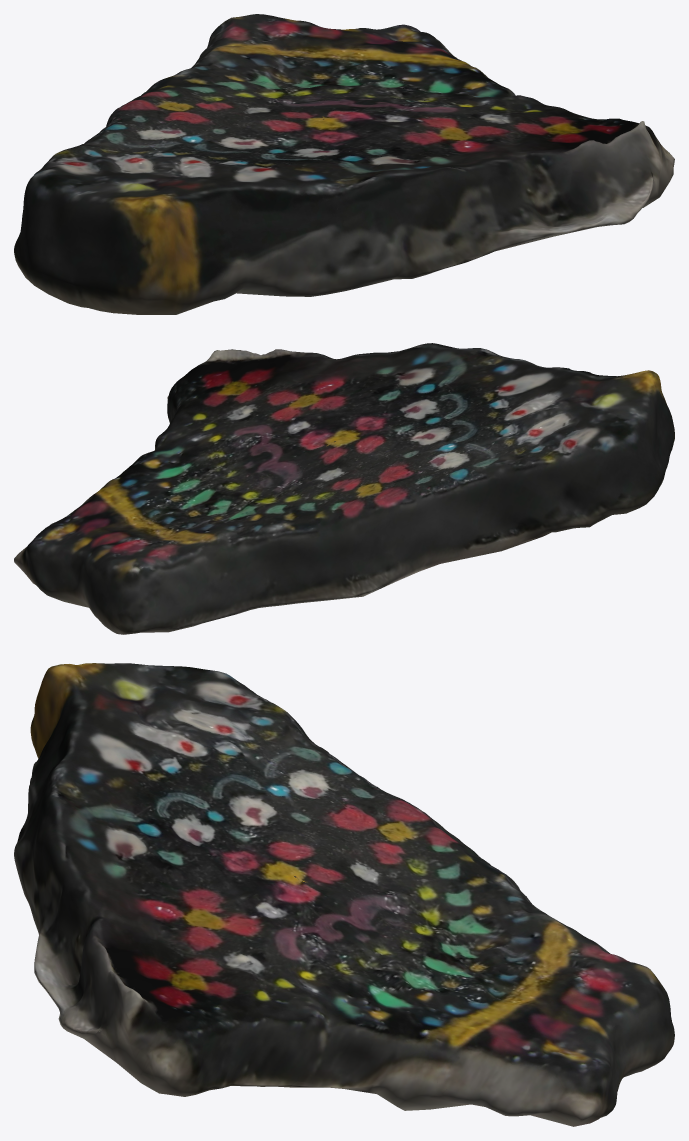
3 renders of one model, top to bottom at view 1: azimuth 30°, elevation 25°; view 2: azimuth 150°, elevation 25°; view 3: azimuth 270°, elevation 25°, orthographic. The views are drawn at different scales.
Size of the model in its own units: 0.5335 by 0.1751 by 0.4836.
1 material, 1 textured.
